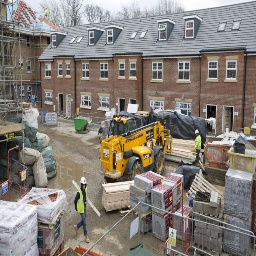helmet: (79, 175, 90, 188), (193, 126, 199, 137)
person: (73, 174, 92, 244), (193, 127, 204, 167)
